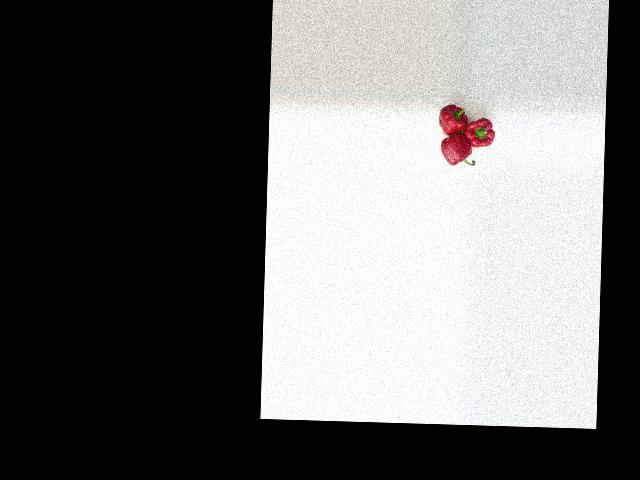bell_pepper: (438, 135, 477, 173)
